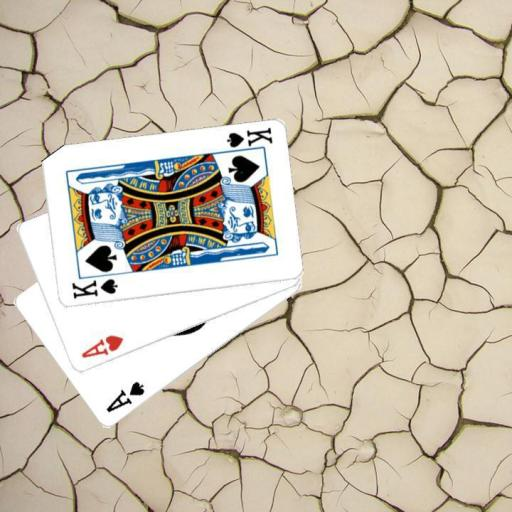card-corner: (220, 124, 274, 155), (103, 378, 147, 415), (78, 332, 125, 360), (68, 276, 120, 301)
